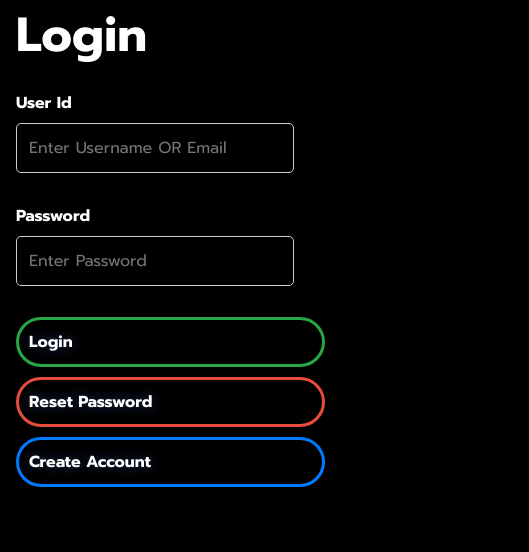
Test: Login Component › should display validation error for invalid password format
// Enter an invalid password
Type "weak" into the password field with placeholder "Enter Password" at (155, 261), box 16,236 -> 294,286
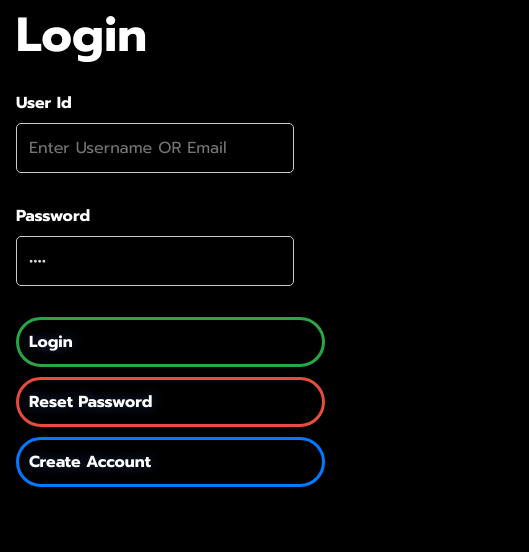
// Simulate form submission
Click the button "Login" at (51, 342), box 16,317 -> 325,367
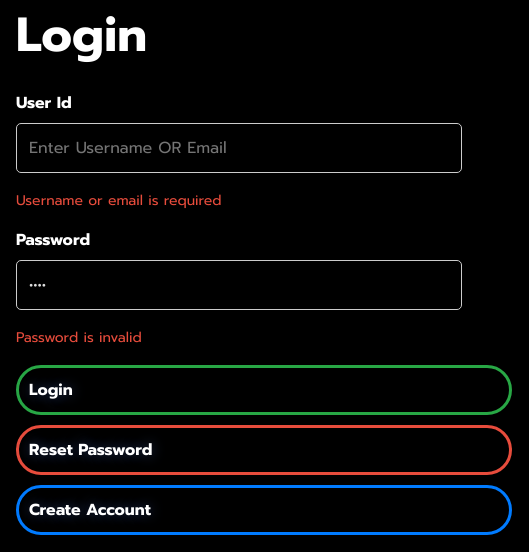
Now the text "Password is invalid" is shown, box 16,327 -> 142,348
